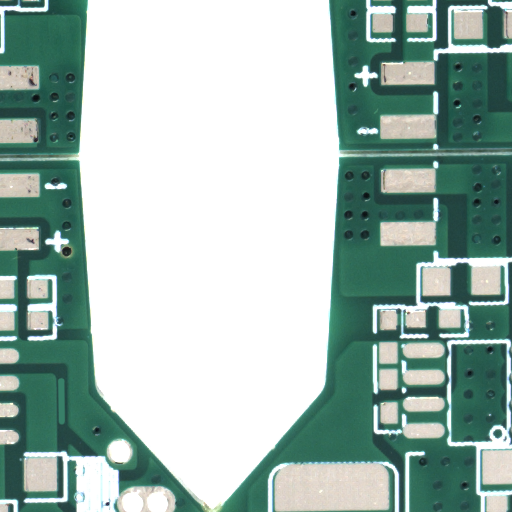Spurious_copper: (61, 400, 70, 449)
